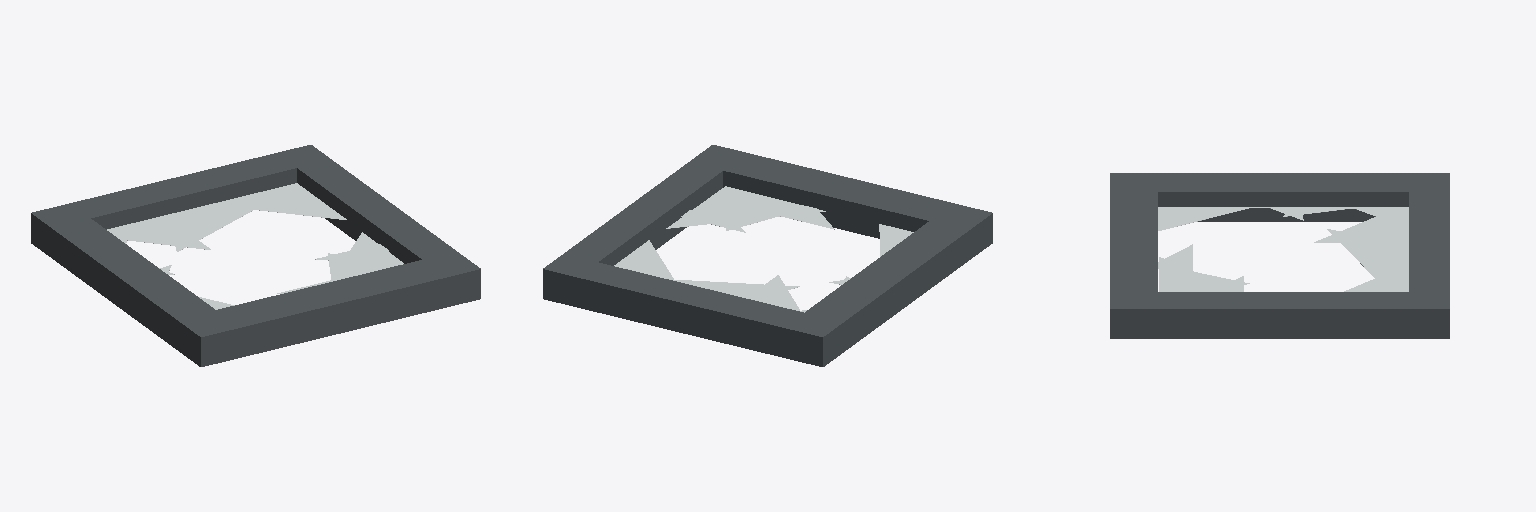
Rendered from tinker.obj.
3 renders of one model, left to right at view 1: azimuth 30°, elevation 25°; view 2: azimuth 150°, elevation 25°; view 3: azimuth 270°, elevation 25°, orthographic.
Visible parts, largest first — view 1: obj_0; view 2: obj_0; view 3: obj_0.
Part boxes in pixels (x1,y1,x2,y2): obj_0: (31, 145, 480, 366); obj_0: (543, 145, 992, 366); obj_0: (1110, 173, 1449, 338).
Size of the model in its own units: 39 by 4 by 41.